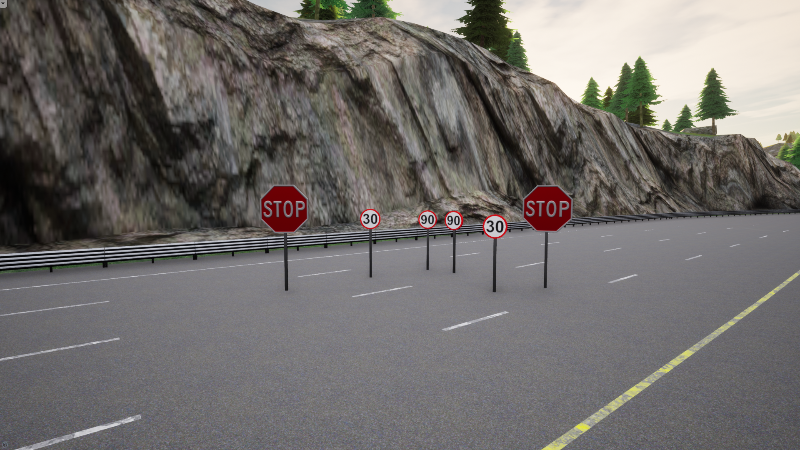fast: (418, 210, 437, 230), (444, 211, 463, 231)
slow: (483, 214, 507, 239), (359, 209, 382, 230)
stop: (522, 184, 573, 233), (260, 185, 309, 234)
